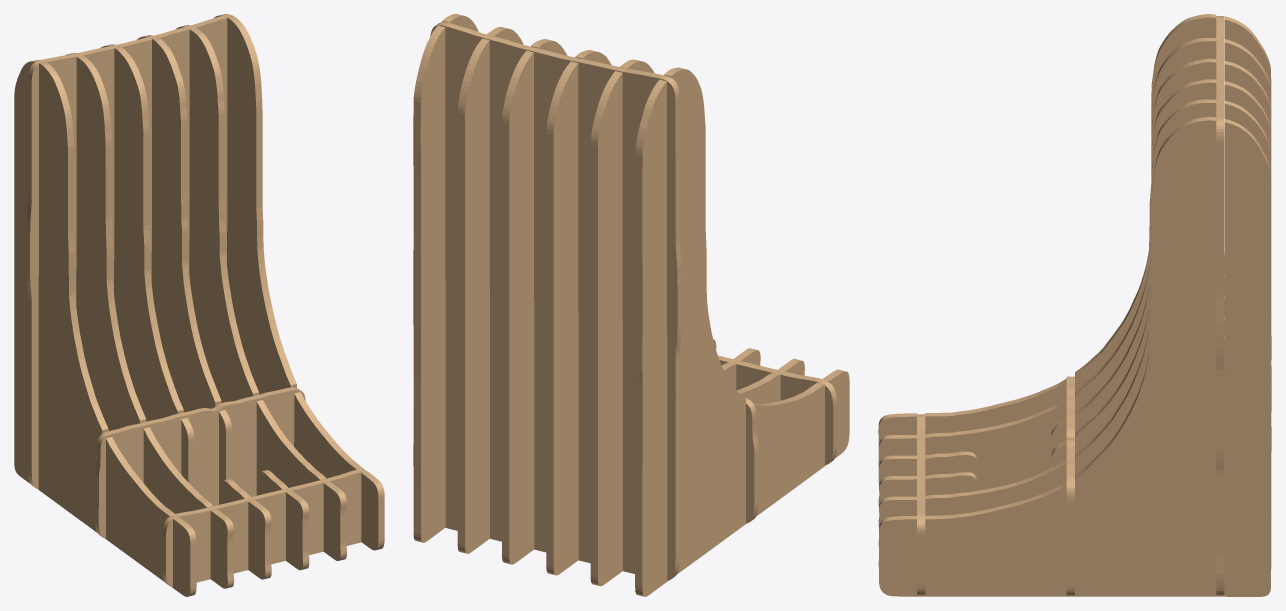
File: samla.glb
3 views of the same model, side by side, from view 1: azimuth 30°, elevation 25°; view 2: azimuth 150°, elevation 25°; view 3: azimuth 270°, elevation 25° (orthographic). The views are drawn at different scales.
Visible parts, largest first — view 1: slicer-kovestemning, 4b, 3b, 3a, 4a; view 2: slicer-kovestemning, 3b, 4b, 3a; view 3: slicer-kovestemning, 3b, 4b, 3a, 4a.
Boxes of the visible parts, x1,y1,x2,y2 form: slicer-kovestemning: (14,14,384,596); 4b: (137,35,232,504); 3b: (101,44,194,488); 3a: (221,479,271,579); 4a: (259,470,309,570); slicer-kovestemning: (413,14,849,596); 3b: (546,50,611,575); 4b: (502,39,567,564); 3a: (722,348,760,389); slicer-kovestemning: (878,14,1271,596); 3b: (1051,58,1271,457); 4b: (1051,79,1271,468); 3a: (878,451,976,526); 4a: (878,472,976,546).
Size of the model in its own units: 0.1352 by 0.2604 by 0.1944.
